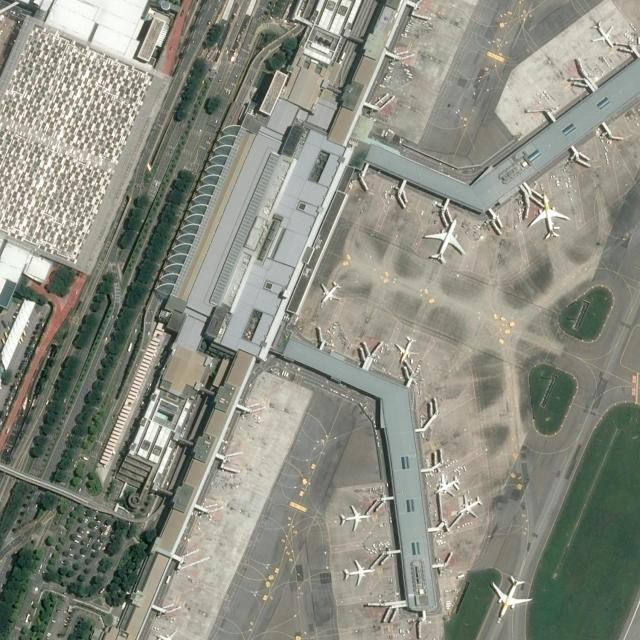Aircraft: (491, 573, 533, 621), (424, 216, 464, 263), (525, 194, 567, 238), (343, 559, 374, 586), (393, 335, 419, 363), (340, 504, 370, 528), (457, 495, 486, 518), (436, 472, 463, 496), (591, 21, 614, 47), (322, 277, 344, 299), (156, 630, 183, 640)
